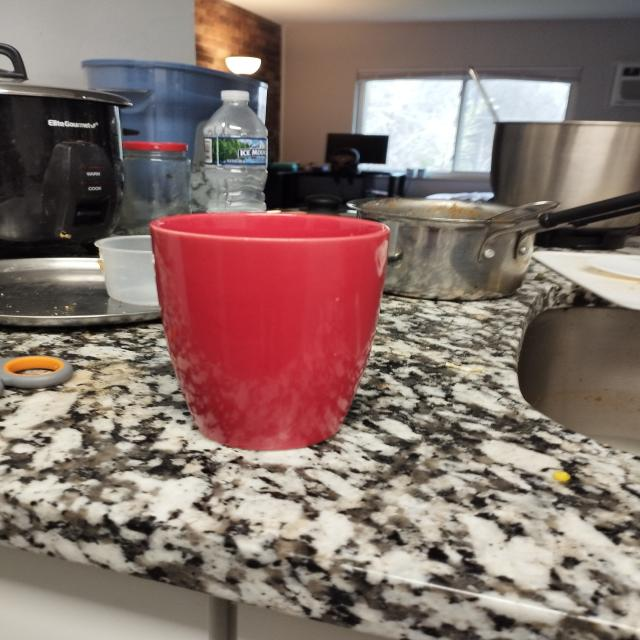Cup: (130, 198, 438, 470)
